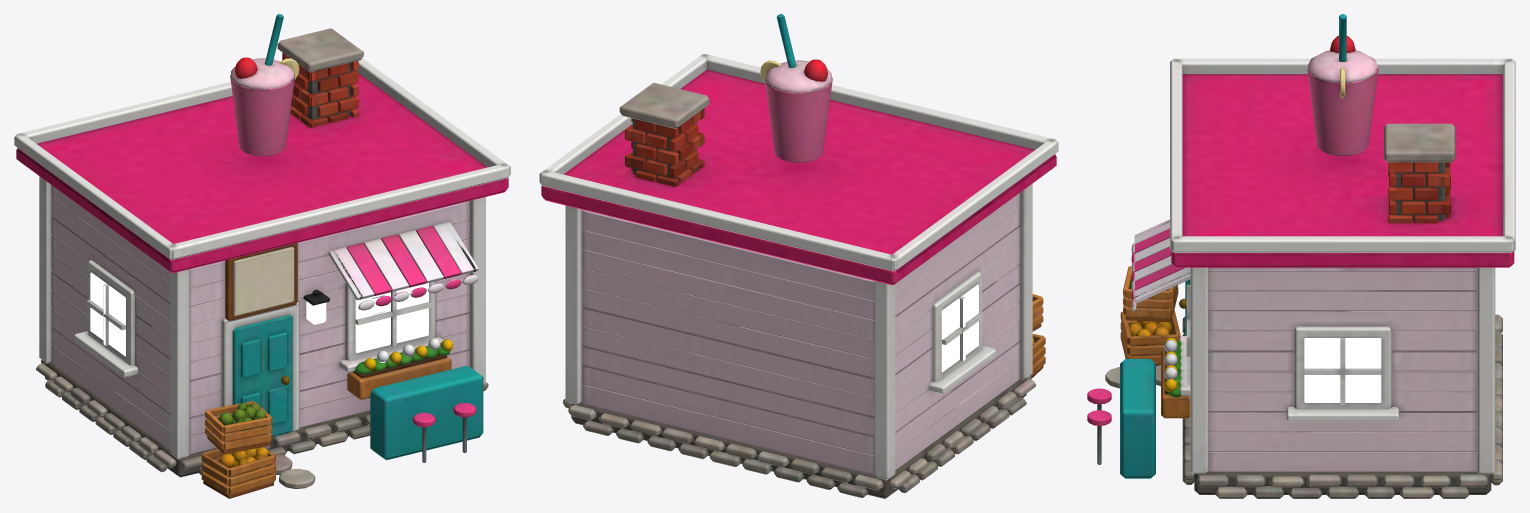
Rendered from smoothie_bar.glb.
3 views of the same model, side by side, from view 1: azimuth 30°, elevation 25°; view 2: azimuth 150°, elevation 25°; view 3: azimuth 270°, elevation 25° (orthographic). The views are drawn at different scales.
Visible parts, largest first — view 1: smoothie_bar; view 2: smoothie_bar; view 3: smoothie_bar.
Part boxes in pixels (left/top/right/bottom): smoothie_bar: left=14, top=14, right=510, bottom=498; smoothie_bar: left=539, top=14, right=1058, bottom=498; smoothie_bar: left=1087, top=14, right=1515, bottom=498.
Bounding box in the file's own units: 1.69 × 1.77 × 1.67.
Materials: 1 (1 with a texture image).
